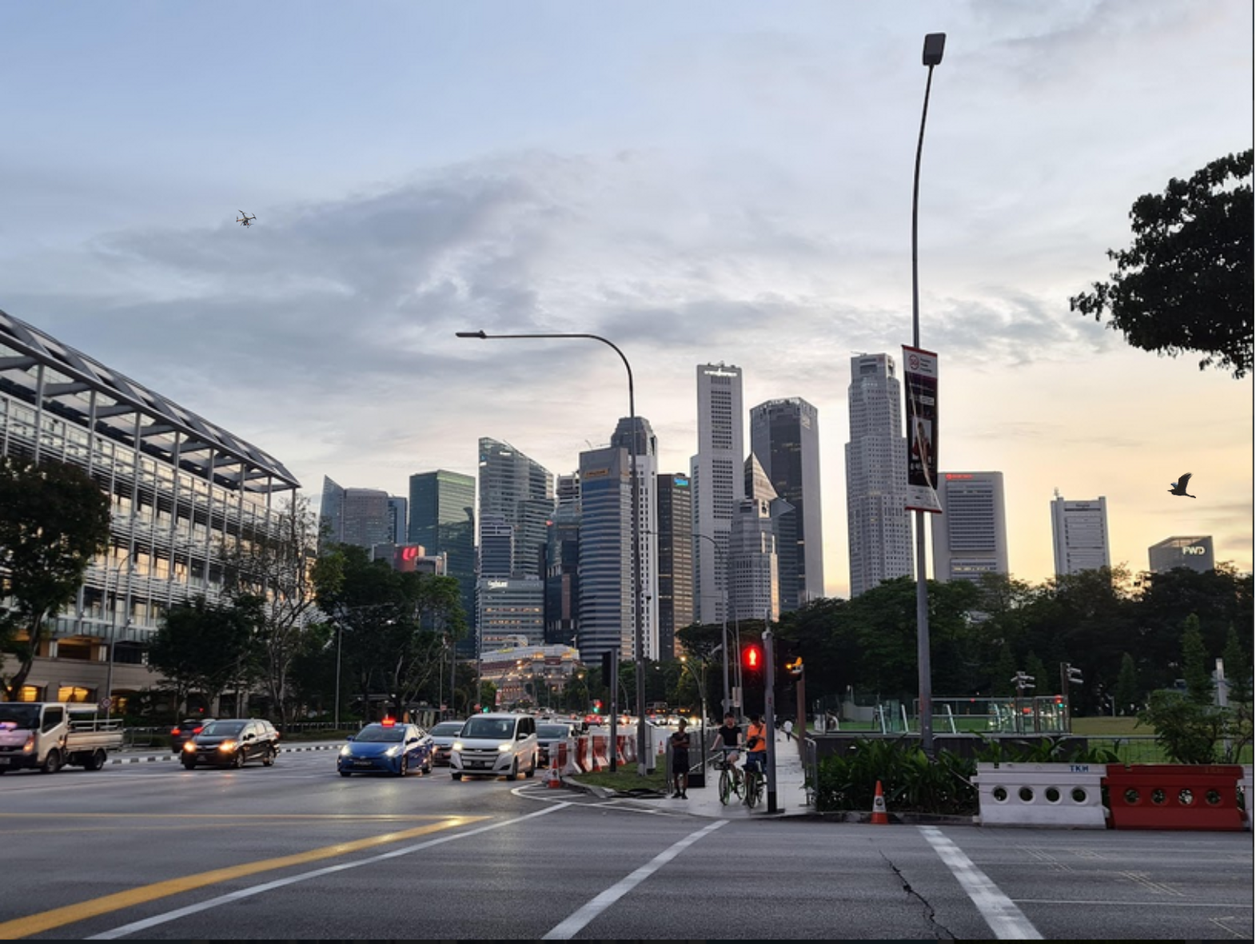drone_other: (232, 208, 261, 229)
